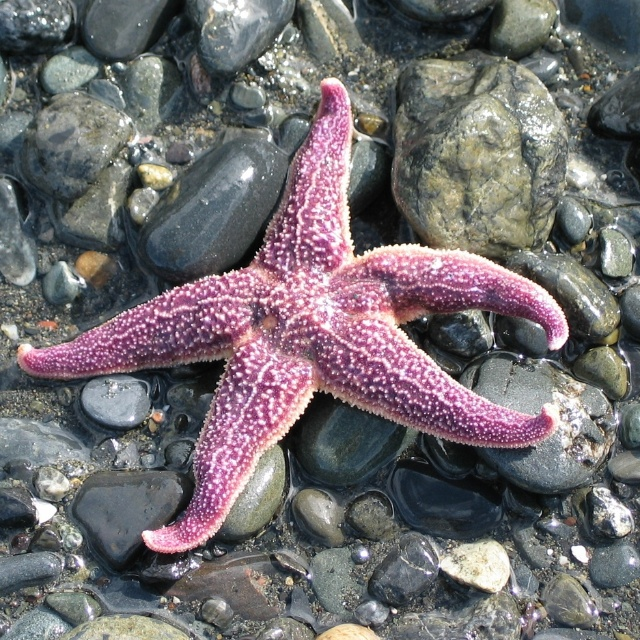Starfish: (18, 78, 570, 554)
